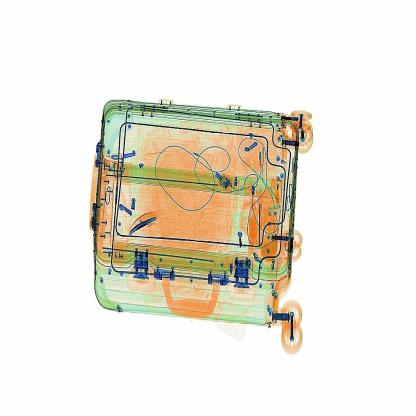pliers: (130, 206, 173, 238)
